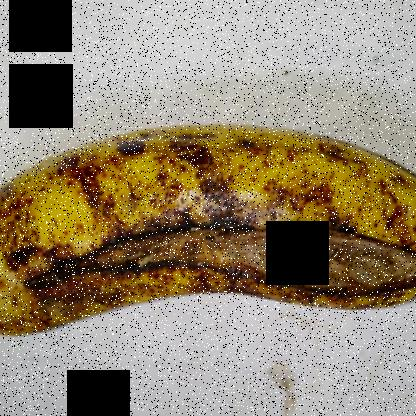rotten: (22, 196, 416, 336)
